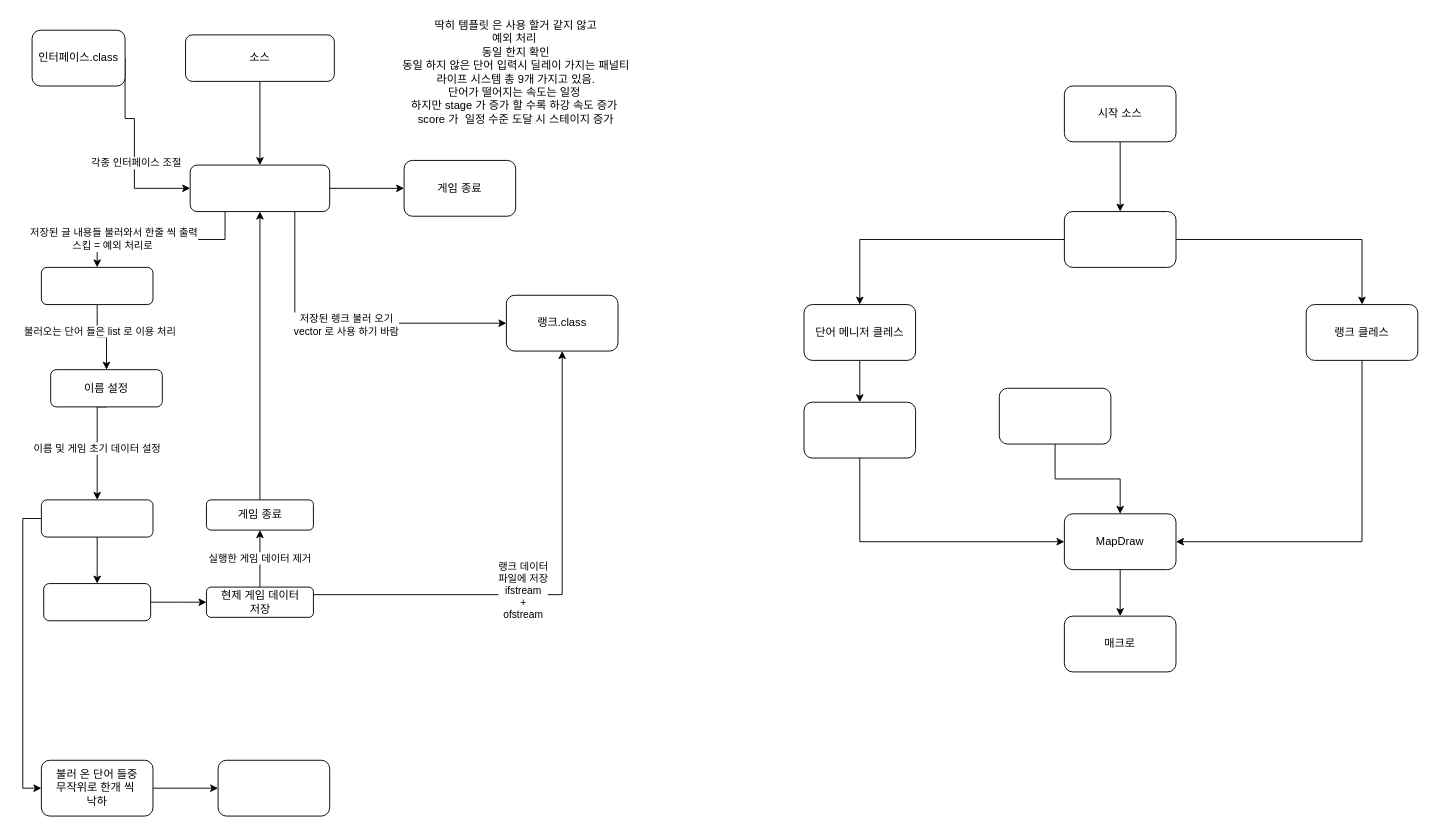
Some shapes in this 1434 by 832 pixel diagram are drawn without their labels. The shapes that lost their labels are listed below. From the top down, each one's centre as x and y in pixels, then its label:
point 259,188: play.class 총괄 클레스
point 1119,239: Play 클레스
point 96,285: 1. 게임 설명
point 859,429: 단어 클레스
point 1054,415: 인터페이스 클레스
point 96,518: Game_Playing.class 게임 진행 클레스?
point 97,602: 게임 오버
